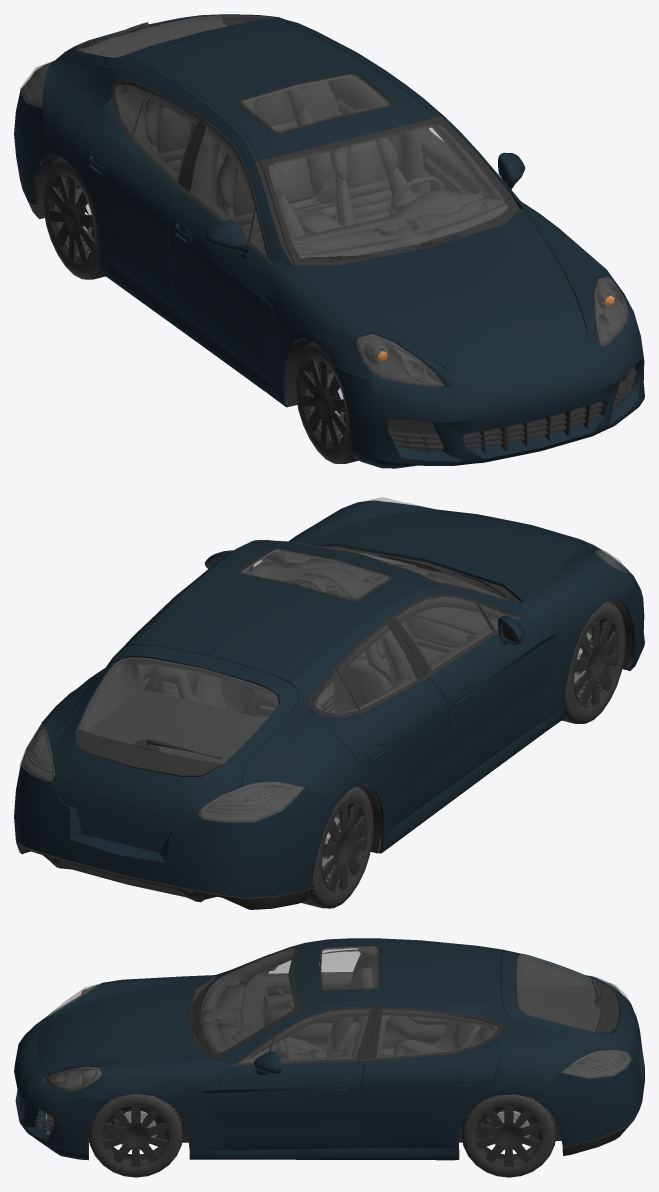
File: qiche2.FBX
3 renders of one model, top to bottom at view 1: azimuth 30°, elevation 25°; view 2: azimuth 150°, elevation 25°; view 3: azimuth 270°, elevation 25°, orthographic. The views are drawn at different scales.
Visible parts, largest first — view 1: qiche2; view 2: qiche2; view 3: qiche2.
Boxes of the visible parts, left/top/right/bottom form: qiche2: left=14, top=14, right=644, bottom=468; qiche2: left=14, top=497, right=644, bottom=909; qiche2: left=14, top=938, right=644, bottom=1177.
Size of the model in its own units: 212 by 144 by 497.
Materials: 6 (5 with a texture image).
